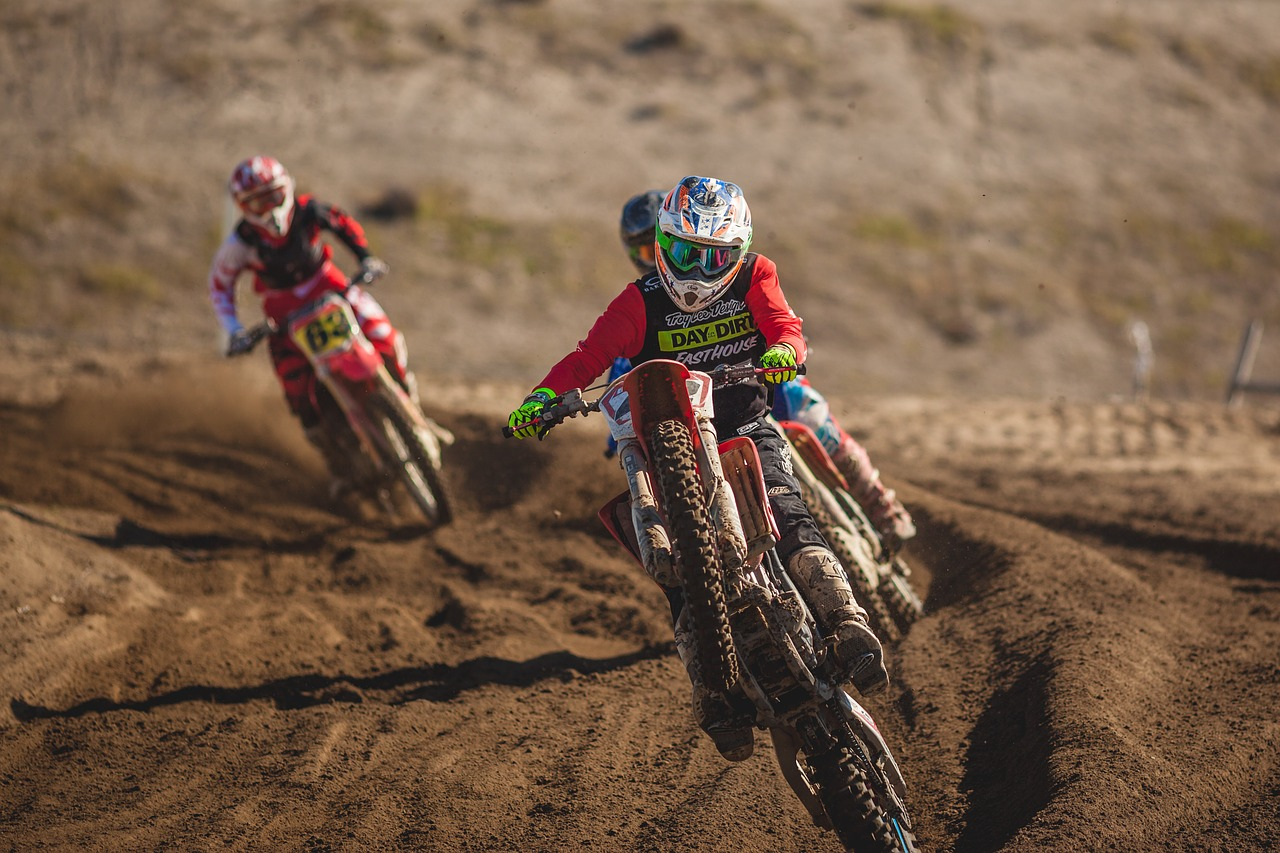helmet: (644, 165, 772, 329), (224, 152, 300, 238)
